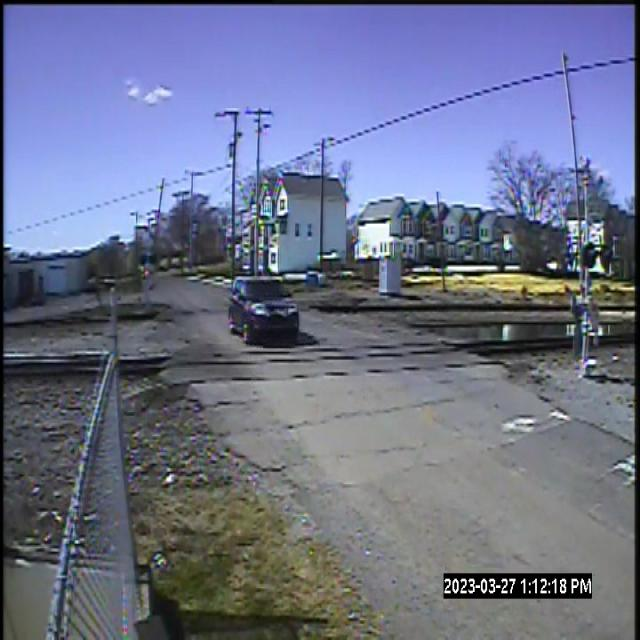car: (228, 258, 308, 356)
rails: (2, 326, 640, 374), (4, 286, 640, 330)
traffic-signal: (570, 241, 626, 384), (138, 240, 172, 335)
